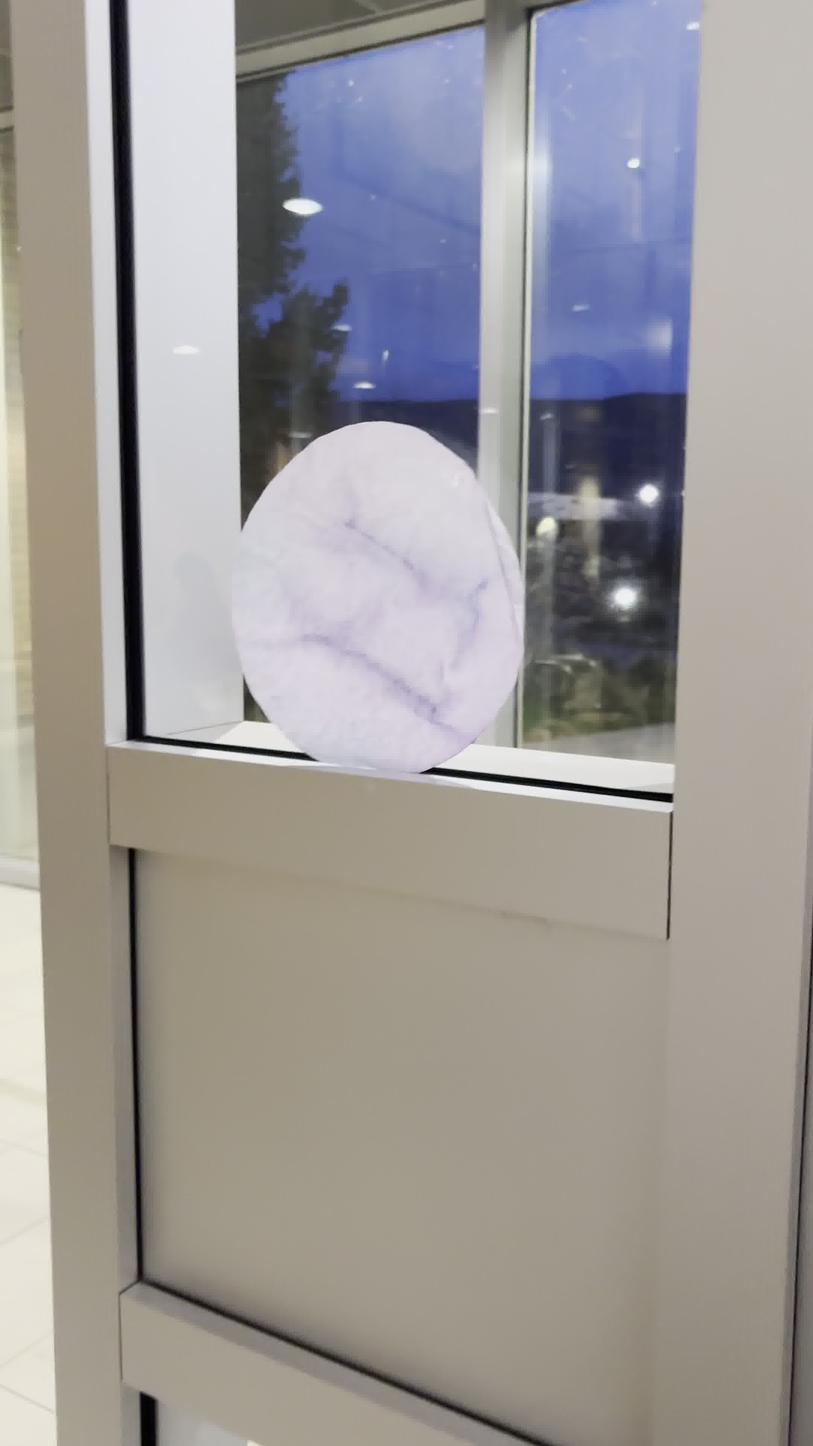Target: (227, 416, 530, 781)
